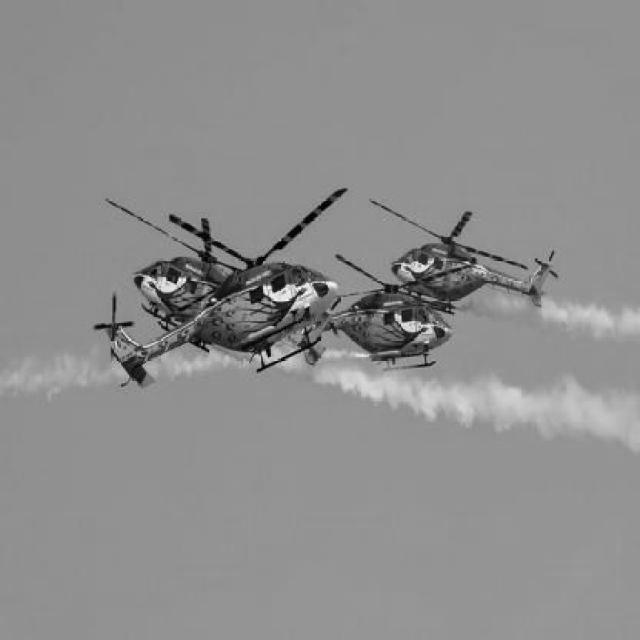helikopter: (102, 192, 350, 426), (378, 198, 574, 320), (340, 270, 451, 370)
